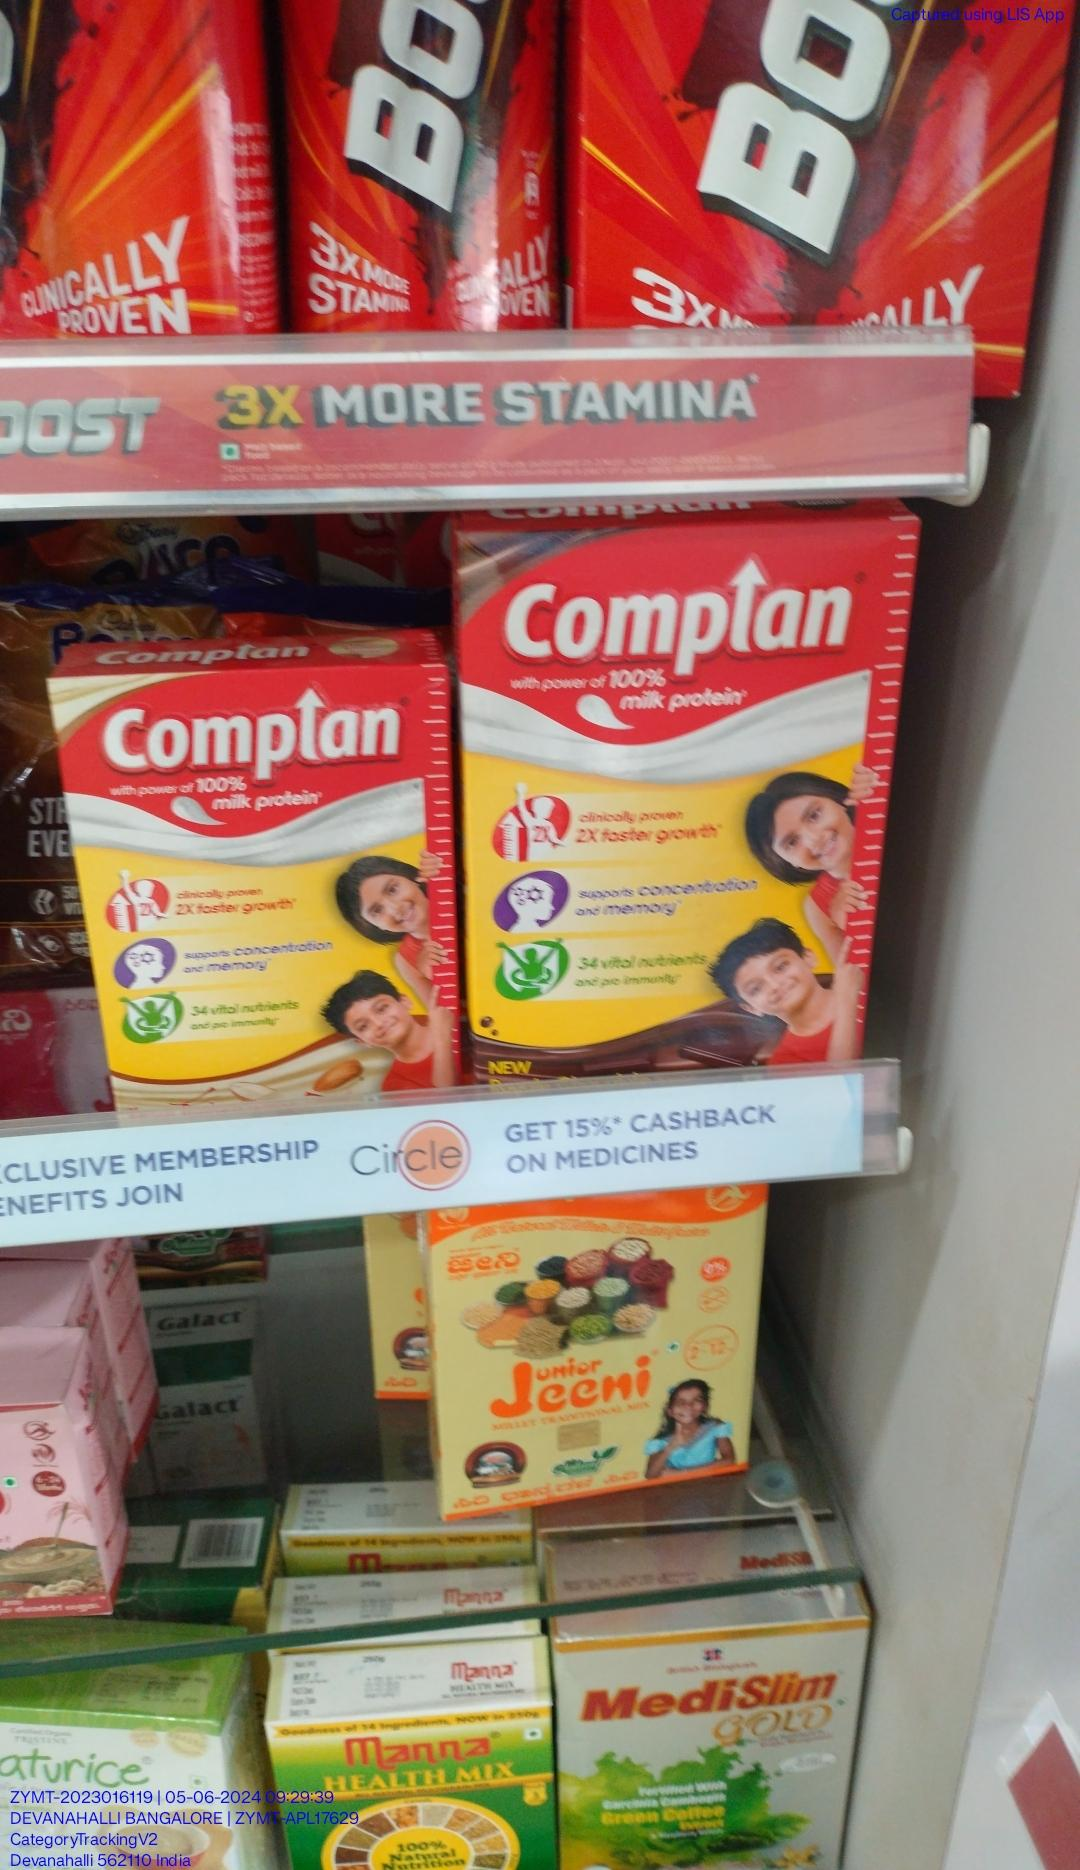COMPLAN_CHOCOLATE_500_GMS_PACK: (476, 533, 869, 1078)
COMPLAN_KESAR_BADAM_500_GMS_PACK: (81, 676, 444, 1116)
